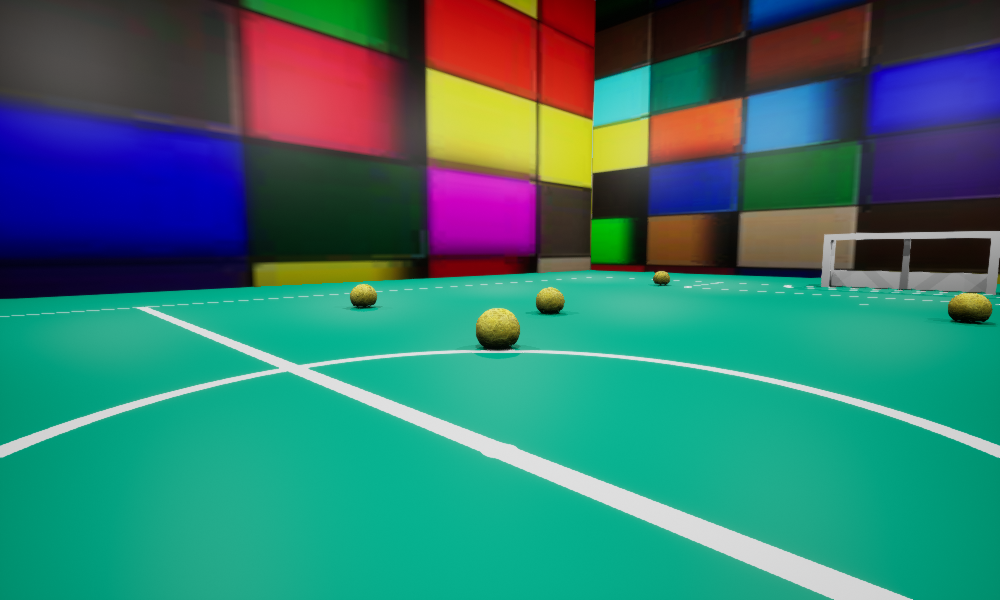b: (476, 308, 519, 349), (948, 293, 992, 322), (536, 287, 564, 313), (350, 284, 376, 307), (653, 271, 669, 284)
g: (821, 231, 999, 294)
